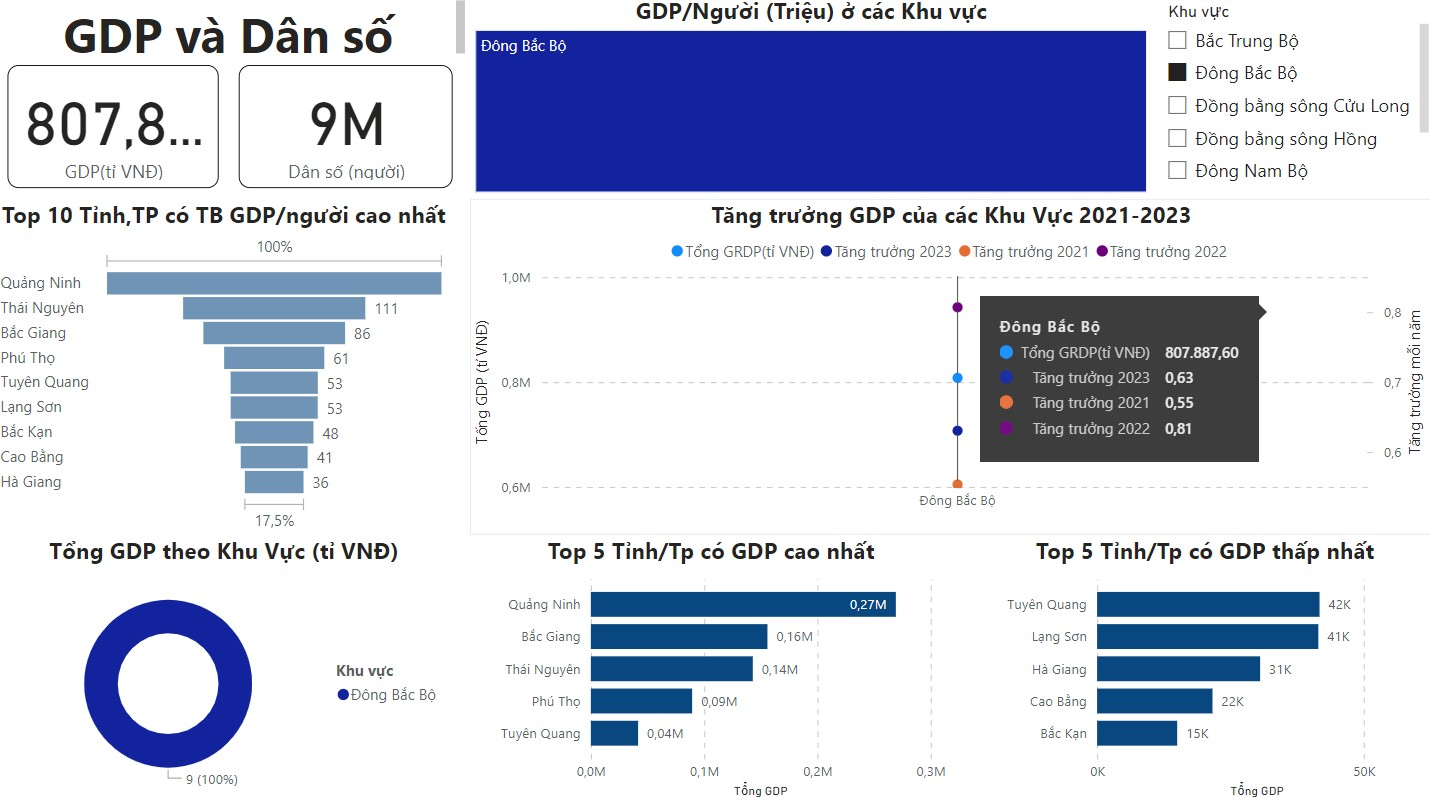

Layout of this report page (visuals, bound fields, positions):
{"tool":"powerbi","page":{"name":"Page 1","canvas":[1280,720],"ordinal":0},"visuals":[{"type":"card","fields":{"Values":["Sum(DS Tinh.Tổng GRDP(tỉ VNĐ))"]},"box":[10.9,62.7,188.1,109.7],"z":0},{"type":"card","fields":{"Values":["Sum(DS Tinh.Dân số (người))"]},"box":[217.1,62.7,190.6,109.7],"z":1000},{"type":"lineChart","title":"Tăng trưởng GDP của các Khu Vực 2021-2023","fields":{"Y":["Sum(DS Tinh.Tổng GRDP(tỉ VNĐ))"],"Y2":["Sum(DS Tinh.Tăng trưởng 2023)","Sum(DS Tinh.Tăng trưởng 2021)","Sum(DS Tinh.Tăng trưởng 2022)"],"Category":["DS Tinh.Khu vực"]},"box":[423.3,180.9,857.5,300.3],"z":2000},{"type":"donutChart","title":"Tổng GDP theo Khu Vực (tỷ VNĐ)","fields":{"Category":["DS Tinh.Khu vực"],"Y":["CountNonNull(DS Tinh.Tổng GRDP(tỉ VNĐ))"]},"box":[0,481.2,407.6,238.8],"z":3000},{"type":"barChart","title":"Top 5 Tỉnh/Tp có GDP cao nhất","fields":{"Category":["DS Tinh.Tên tỉnh, thành phố"],"Y":["Sum(DS Tinh.Tổng GRDP(tỉ VNĐ))"]},"box":[423.3,481.2,429.3,238.8],"z":4000},{"type":"barChart","title":"Top 5 Tỉnh/Tp có GDP thấp nhất","fields":{"Category":["DS Tinh.Tên tỉnh, thành phố"],"Y":["Sum(DS Tinh.Tổng GRDP(tỉ VNĐ))"]},"box":[873.2,481.2,407.6,238.8],"z":5000},{"type":"slicer","fields":{"Values":["DS Tinh.Khu vực"]},"box":[1031.2,0,249.6,180.9],"z":6000},{"type":"textbox","box":[0,0,423.3,61.5],"z":7000},{"type":"treemap","title":"GDP/Người (Triệu) ở các Khu vực","fields":{"Group":["DS Tinh.Khu vực"],"Values":["Sum(DS Tinh.GDP/Người (Triệu))"]},"box":[423.3,0,607.8,180.9],"z":8000},{"type":"funnel","title":"Top 10 Tỉnh,TP có GDP/người cao nhất","fields":{"Category":["DS Tinh.Tên tỉnh, thành phố"],"Y":["Avg(DS Tinh.GDP/Người (Triệu))"]},"box":[0,180.9,407.6,301.5],"z":9000}]}

Visuals, with their boxes in screenshot pixels (x1, y1, x2, y2), scaled from the page's 1280x720 canvas onto the 1430x797 screenshot:
card - Sum(DS Tinh.Tổng GRDP(tỉ VNĐ)): (left=12, top=69, right=222, bottom=191)
card - Sum(DS Tinh.Dân số (người)): (left=243, top=69, right=455, bottom=191)
"Tăng trưởng GDP của các Khu Vực 2021-2023" lineChart: (left=473, top=200, right=1429, bottom=533)
"Tổng GDP theo Khu Vực (tỷ VNĐ)" donutChart: (left=0, top=533, right=455, bottom=796)
"Top 5 Tỉnh/Tp có GDP cao nhất" barChart: (left=473, top=533, right=953, bottom=796)
"Top 5 Tỉnh/Tp có GDP thấp nhất" barChart: (left=976, top=533, right=1429, bottom=796)
slicer - DS Tinh.Khu vực: (left=1152, top=0, right=1429, bottom=200)
textbox: (left=0, top=0, right=473, bottom=68)
"GDP/Người (Triệu) ở các Khu vực" treemap: (left=473, top=0, right=1152, bottom=200)
"Top 10 Tỉnh,TP có GDP/người cao nhất" funnel: (left=0, top=200, right=455, bottom=534)
